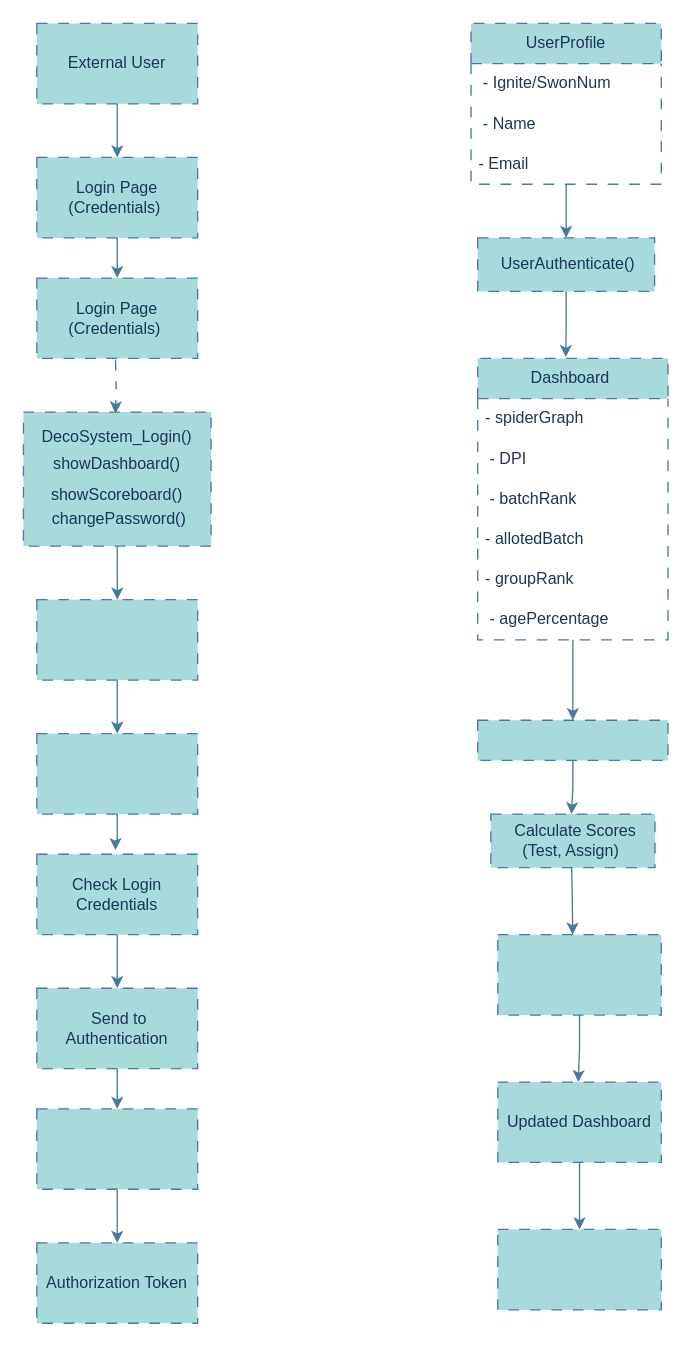
The diagram is 691 pixels wide and 1347 high, and some of its shapes have lost their labels. Here are the shapes that lost their labels. From the top down, the centre of each, then its label:
point 117,639: DataStore (User Credentials)
point 572,739: Process Score Data
point 117,773: Process Login Data
point 578,974: Update DataStore (Score Updates)
point 117,1148: Authentication Confirmation
point 578,1269: End
